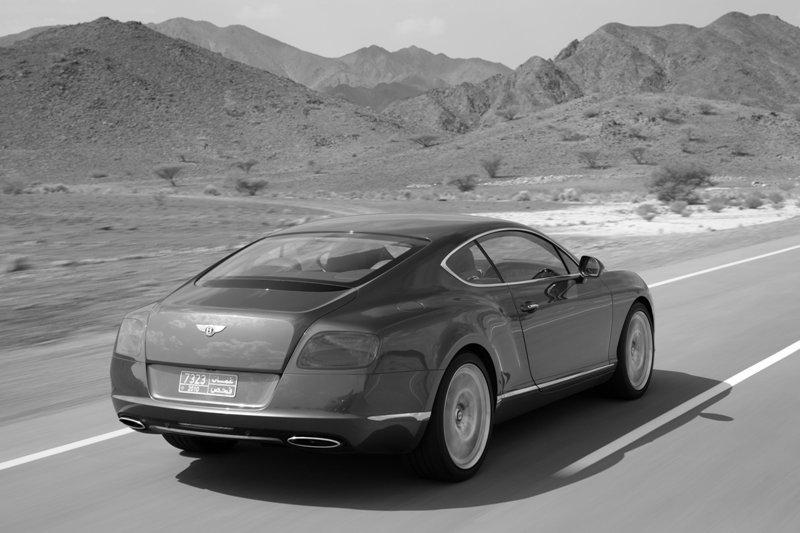car: (106, 208, 659, 491)
